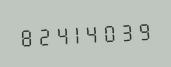eight: (17, 23, 33, 49)
four: (51, 21, 67, 47), (85, 20, 101, 46)
nine: (136, 17, 152, 43)
one: (68, 20, 84, 47)
three: (119, 18, 135, 44)
two: (34, 22, 50, 48)
zero: (102, 19, 118, 45)
